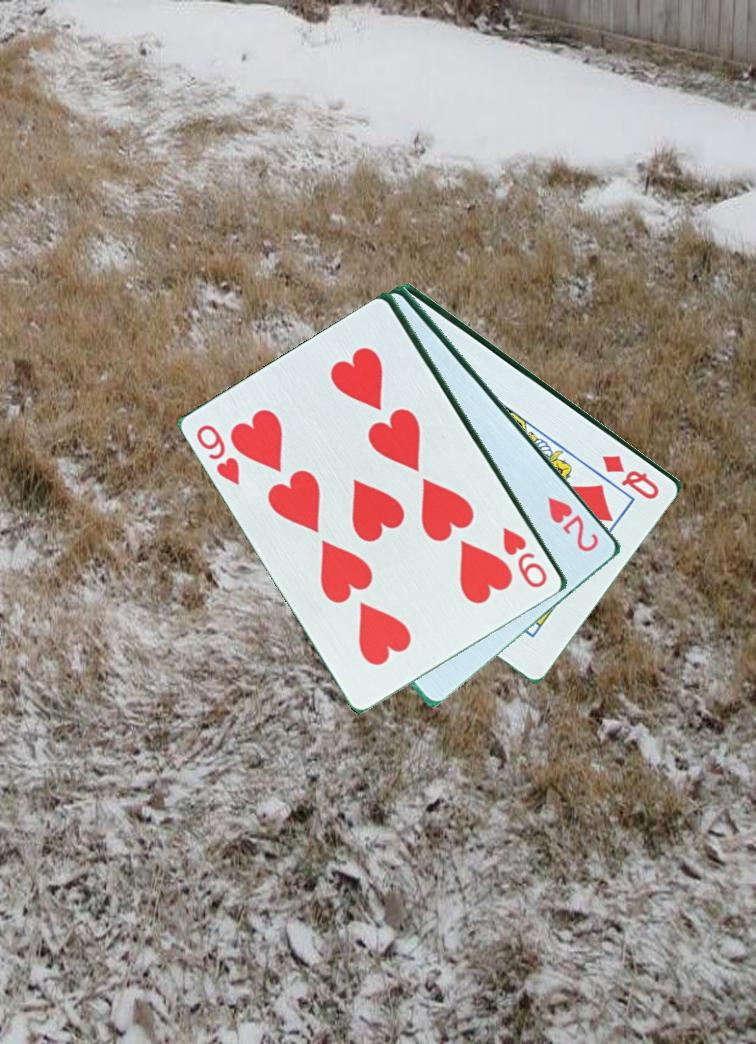2h: (544, 492, 603, 557)
9h: (193, 421, 248, 491), (499, 523, 551, 592)
qd: (599, 451, 663, 504)
